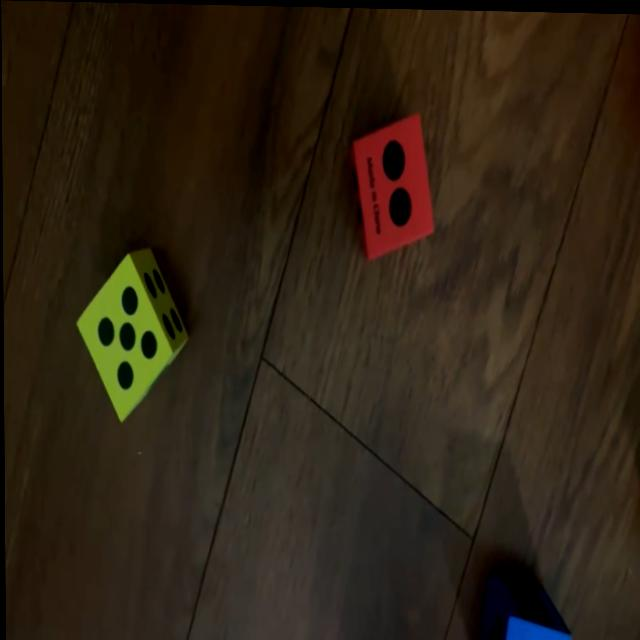cube: (348, 111, 433, 257), (482, 574, 571, 640)
